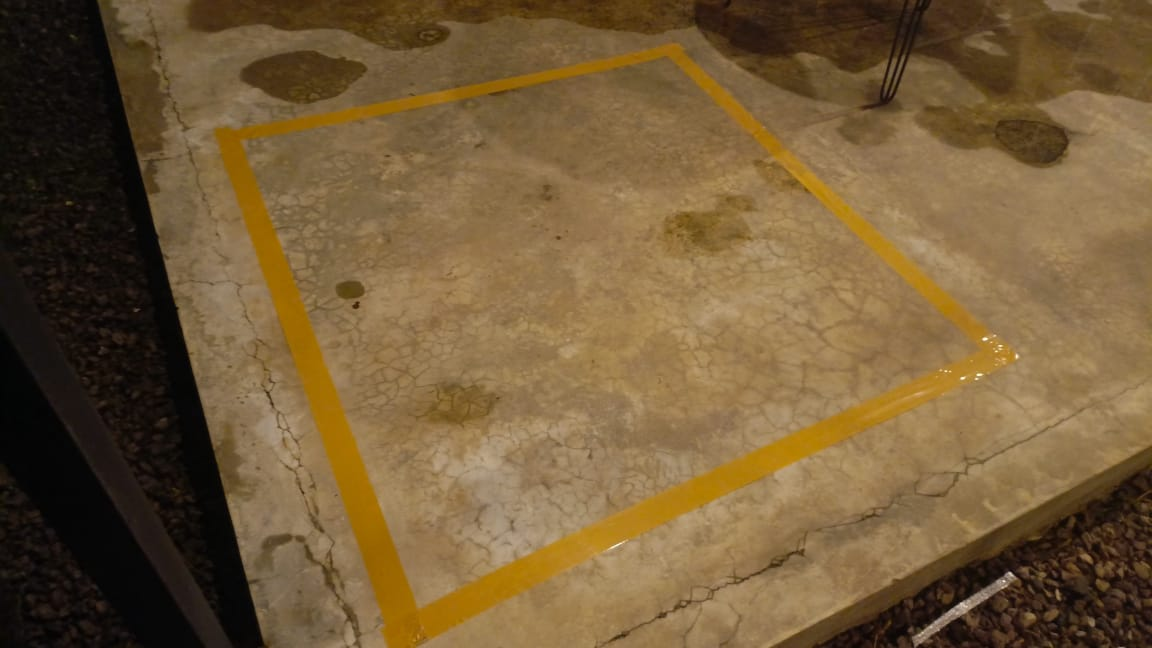floor marking: (216, 44, 1017, 647)
